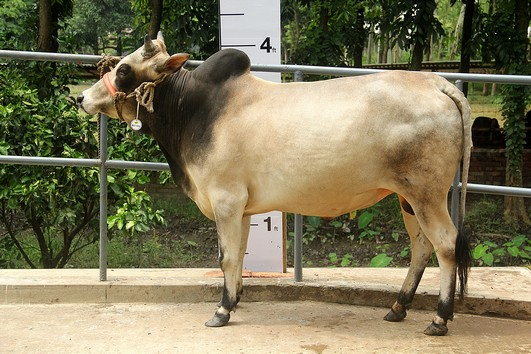cow: (71, 29, 475, 342)
